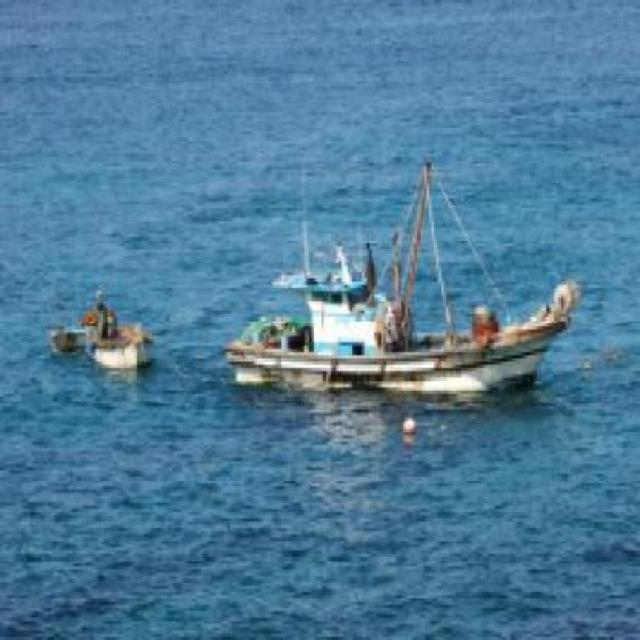fish-b: (216, 145, 584, 408)
